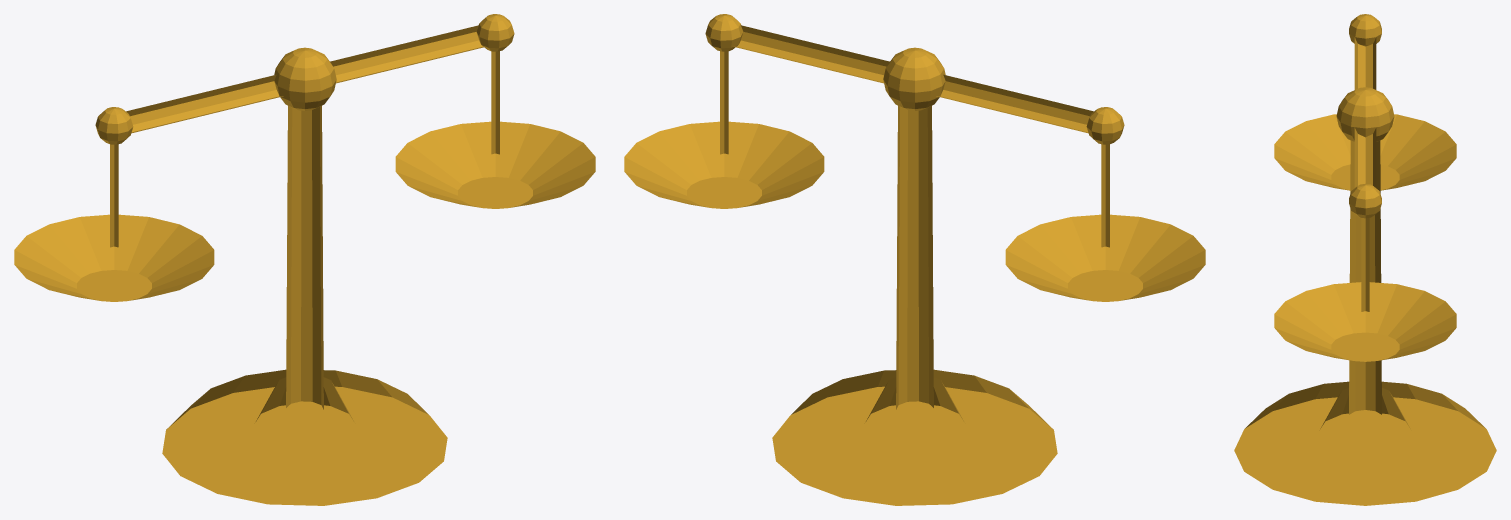
File: economics.glb
3 views of the same model, side by side, from view 1: azimuth 30°, elevation 25°; view 2: azimuth 150°, elevation 25°; view 3: azimuth 270°, elevation 25° (orthographic). The views are drawn at different scales.
Parts seen in each view (by area): view 1: economics; view 2: economics; view 3: economics.
Boxes of the visible parts, x1=… form: economics: x1=14, y1=14, x2=595, y2=505; economics: x1=624, y1=14, x2=1205, y2=505; economics: x1=1234, y1=14, x2=1496, y2=505.
Bounding box in the file's own units: 1 × 0.6776 × 0.4474.
